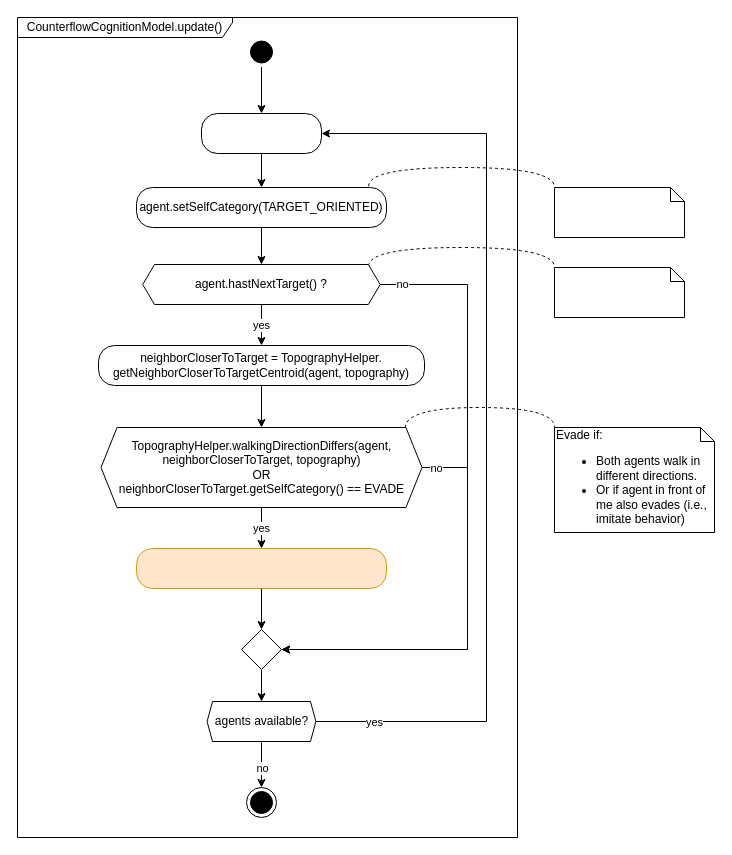
The diagram is 732 pixels wide and 855 high, and some of its shapes have lost their labels. Here are the shapes that lost their labels. From the top down, the centre of each, then its label:
At [261,133]: "for all agents".
At [619,212]: "Stay TARGET_ORIENTED as long as possible.".
At [619,292]: "No target, i.e.: - Agent does not move. - No action required.".
At [261,568]: "agent.setSelfCategory(EVADE)".
